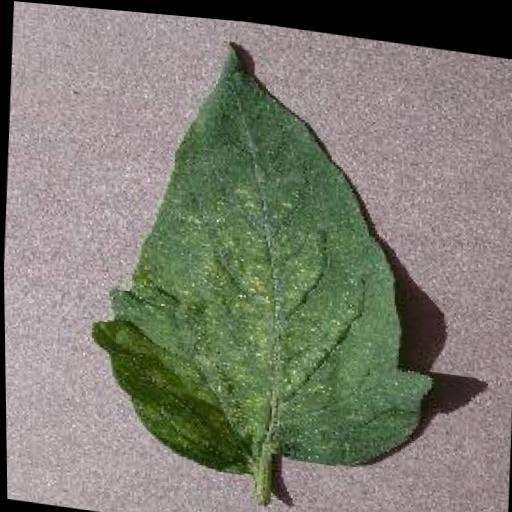Spider Mites: (80, 18, 451, 492)
